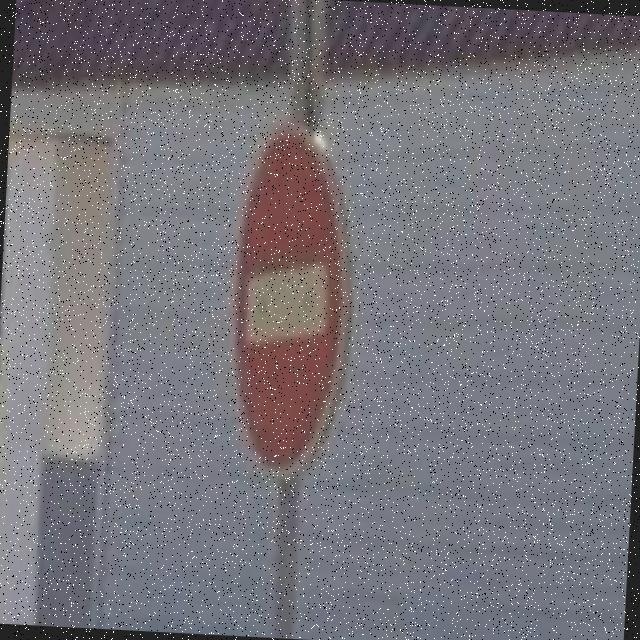Zakaz wjazdu: (220, 116, 356, 484)
